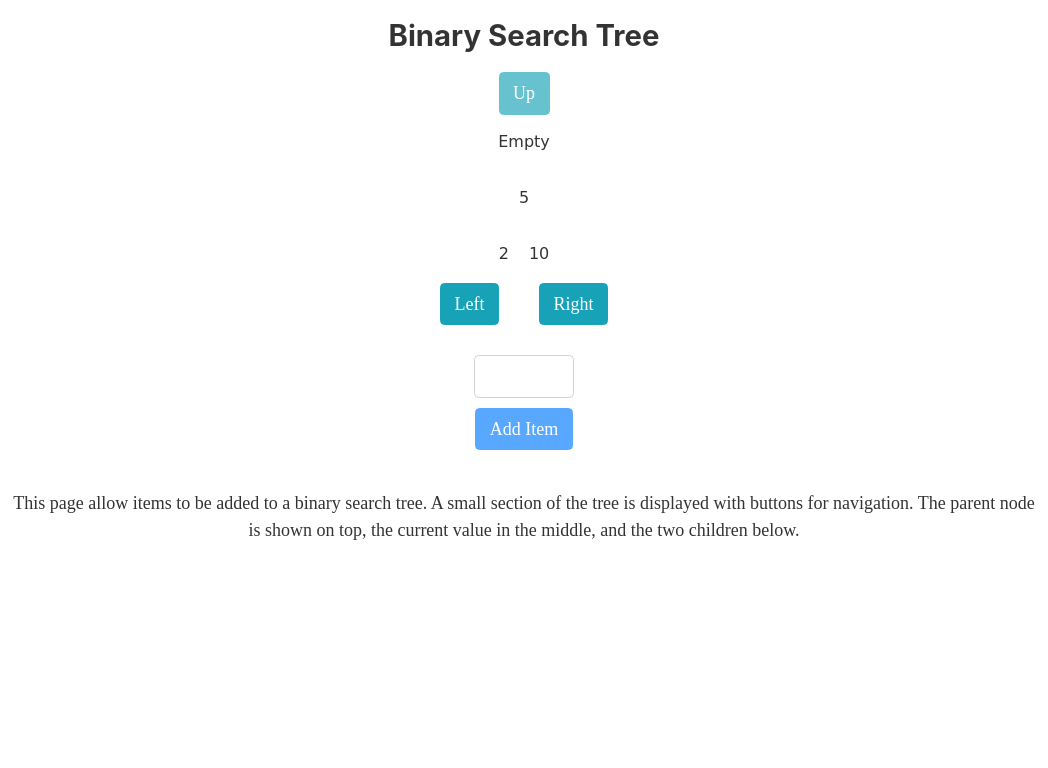
BinarySearchTree › Click leftButton and display correctly
Click the button with id "leftButton" at [470, 304], box [440,283,499,326]
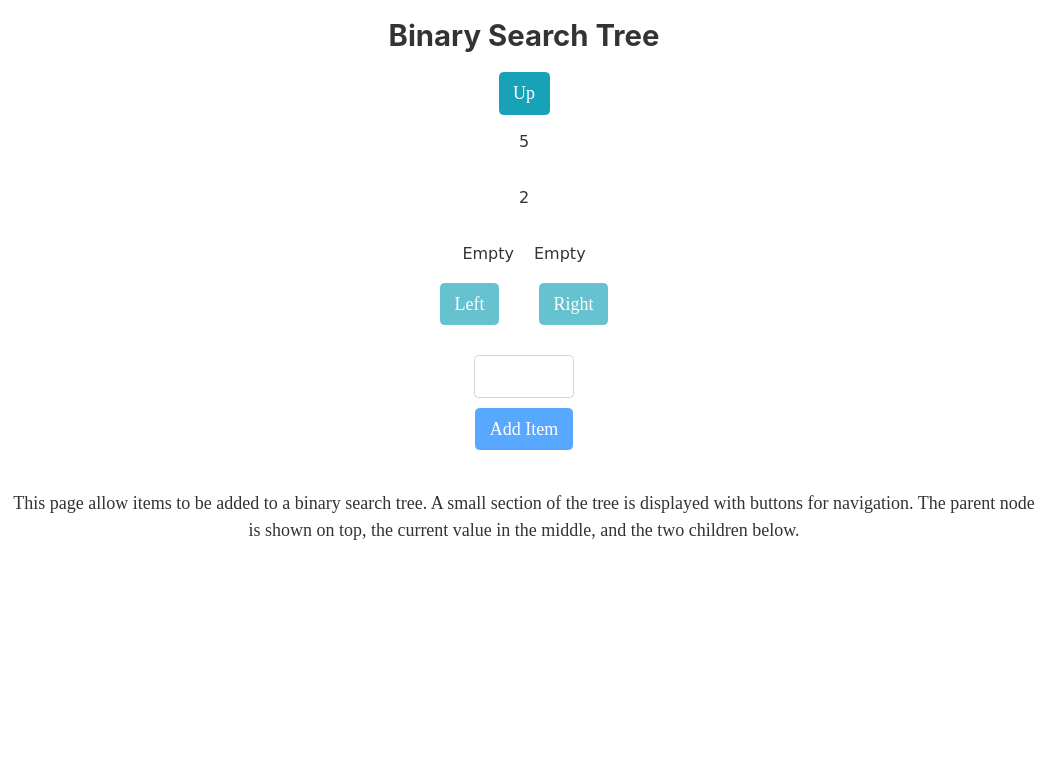
Check: the text with id "mainDisplay" reads "2", box [519,188,529,207]
